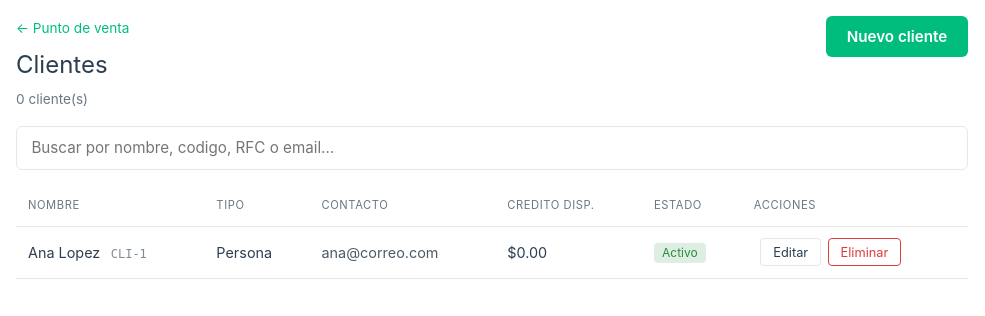
Test: CustomersView › muestra el error de borrado cuando remove falla
Click the button with class "cust-table__btn--danger". click: (864, 252)
box: [828,238,901,266]
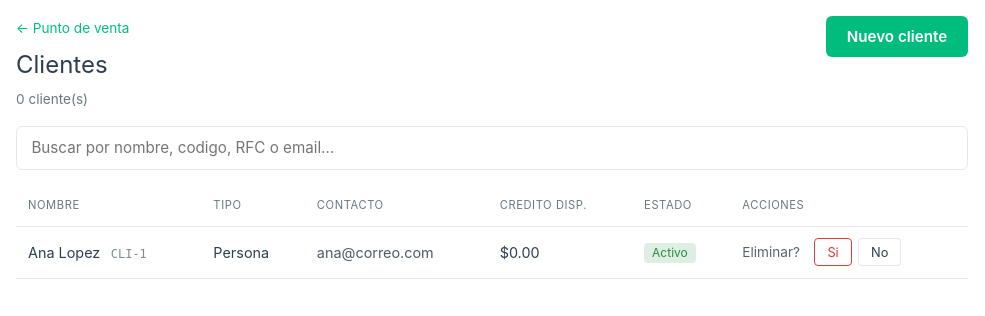
Click the button with class "cust-table__btn--danger". click: (833, 252)
box: [814,238,852,266]
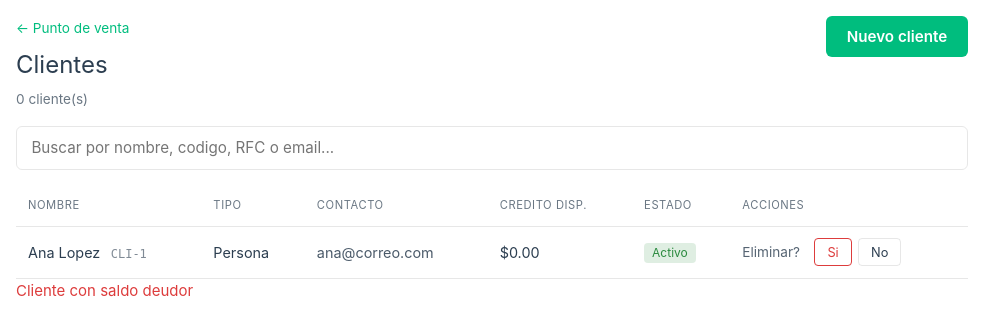
expect the text with class "cust-view__error" reads "Cliente con saldo deudor": met, box [16,280,193,300]
